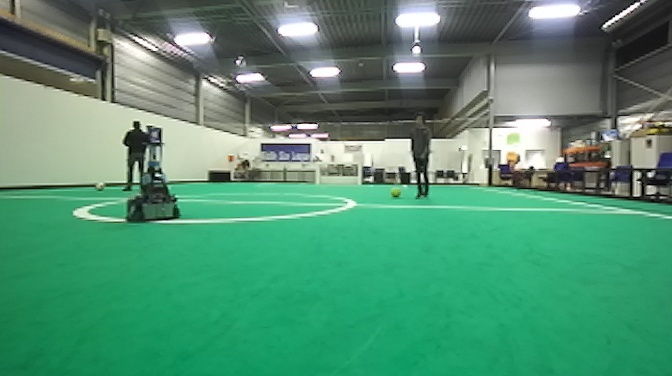ball: (93, 180, 106, 193), (389, 186, 402, 199)
goal: (314, 162, 362, 189)
goalpost: (355, 160, 363, 188), (314, 162, 320, 187)
human: (409, 110, 433, 200), (121, 119, 150, 193)
robot: (124, 142, 184, 225)
